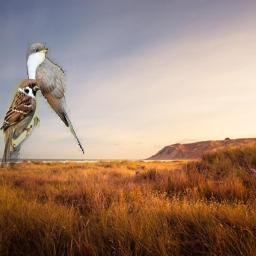Cuckoo: (26, 42, 85, 155)
Sparrow: (0, 79, 40, 169)
